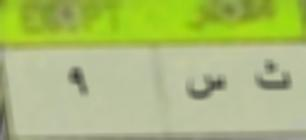9: (64, 61, 98, 107)
seen: (181, 71, 231, 111)
thaa: (249, 59, 297, 104)
